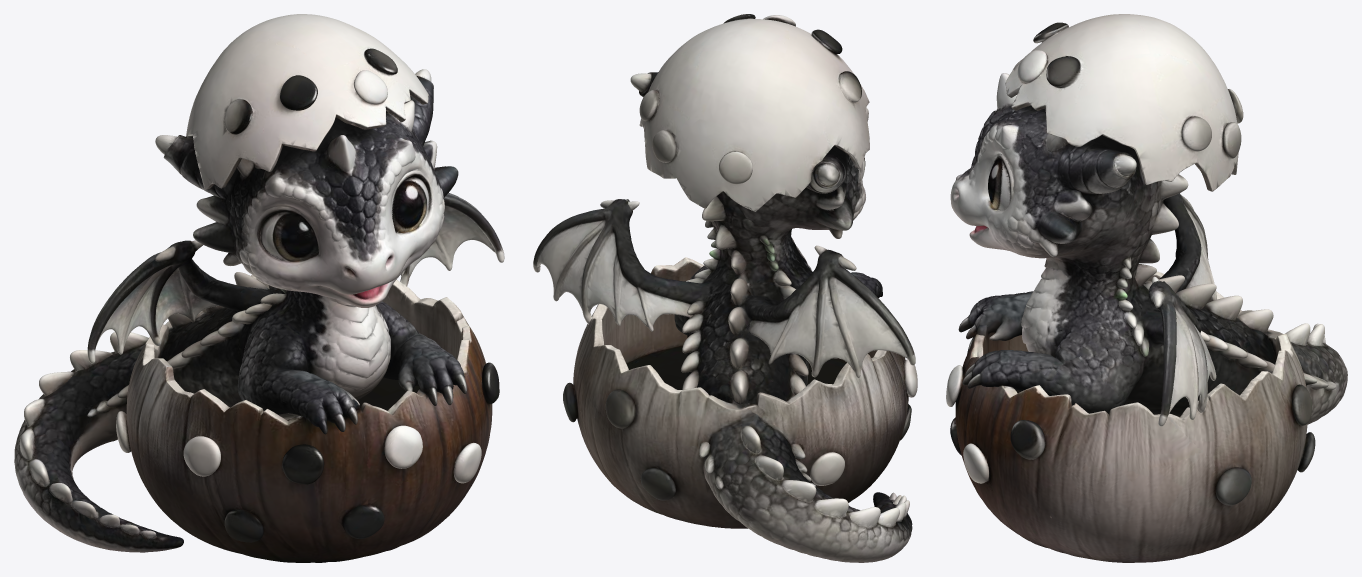
File: stage_i.glb
3 views of the same model, side by side, from view 1: azimuth 30°, elevation 25°; view 2: azimuth 150°, elevation 25°; view 3: azimuth 270°, elevation 25° (orthographic). The views are drawn at different scales.
Visible parts, largest first — view 1: tripo_node_a848379d-fde1-45b9-8fcb-a618857804a8; view 2: tripo_node_a848379d-fde1-45b9-8fcb-a618857804a8; view 3: tripo_node_a848379d-fde1-45b9-8fcb-a618857804a8.
Boxes of the visible parts, x1,y1,x2,y2 form: tripo_node_a848379d-fde1-45b9-8fcb-a618857804a8: (14,14,504,562); tripo_node_a848379d-fde1-45b9-8fcb-a618857804a8: (533,14,917,562); tripo_node_a848379d-fde1-45b9-8fcb-a618857804a8: (946,14,1347,562).
Size of the model in its own units: 0.9155 by 1 by 0.7464.
Materials: 1 (1 with a texture image).
